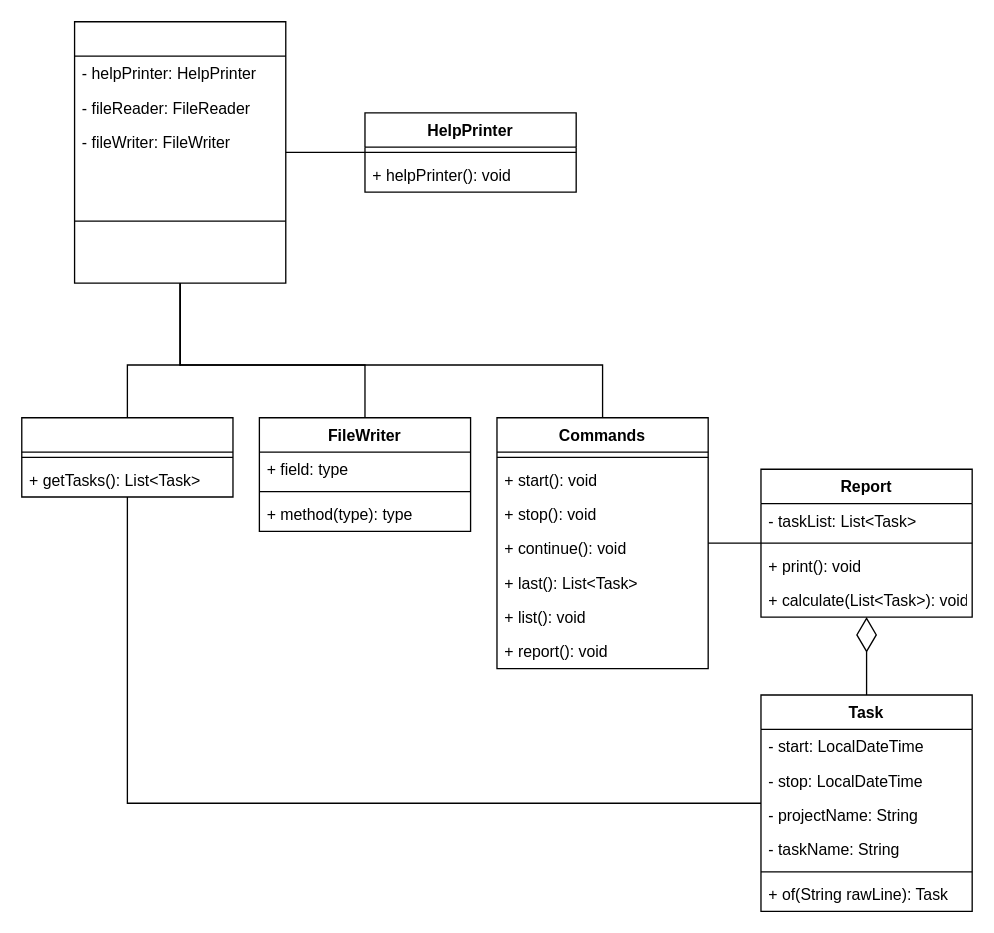
This 994x933 diagram has some shape labels left out. Here are the shapes that lost their labels. From the top down, the box of each, then its label:
(73, 20, 286, 283): Main
(20, 416, 233, 497): FileReader
